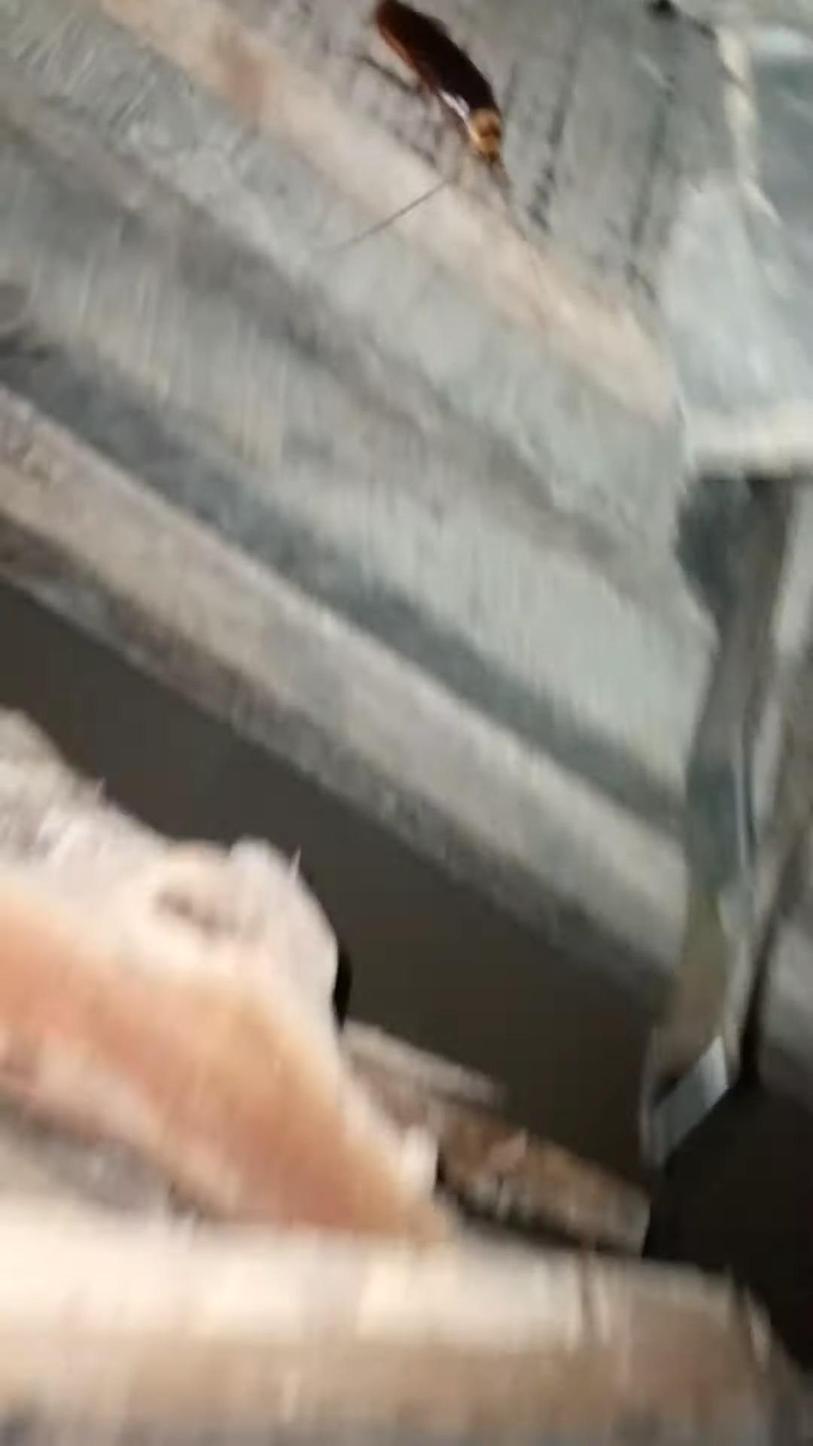cockroach: (279, 1, 538, 226)
